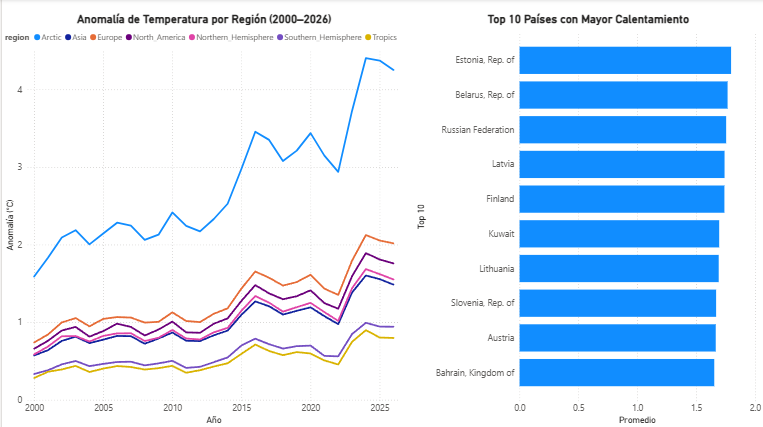

The page's visual inventory and layout, read from the dashboard file:
{"tool":"powerbi","page":{"name":"Análisis Regional","canvas":[1280,720],"ordinal":1},"visuals":[{"type":"lineChart","title":"Anomalía de Temperatura por Región (2000–2026)","fields":{"Category":["temp_regions_clean.year"],"Y":["Avg(temp_regions_clean.temp_anomaly_c)"],"Series":["temp_regions_clean.region"]},"box":[0,21.8,678.6,698.8],"z":0},{"type":"barChart","title":"Top 10 Países con Mayor Calentamiento","fields":{"Category":["indicators_clean.Country"],"Y":["Avg(indicators_clean.Value)"]},"box":[690.4,21.8,589.6,698.8],"z":1}]}

Visuals, with their boxes in screenshot pixels (x1, y1, x2, y2), scaled from the page's 1280x720 canvas onto the 763x427 screenshot:
"Anomalía de Temperatura por Región (2000–2026)" lineChart: bbox(0, 13, 405, 426)
"Top 10 Países con Mayor Calentamiento" barChart: bbox(412, 13, 762, 426)
